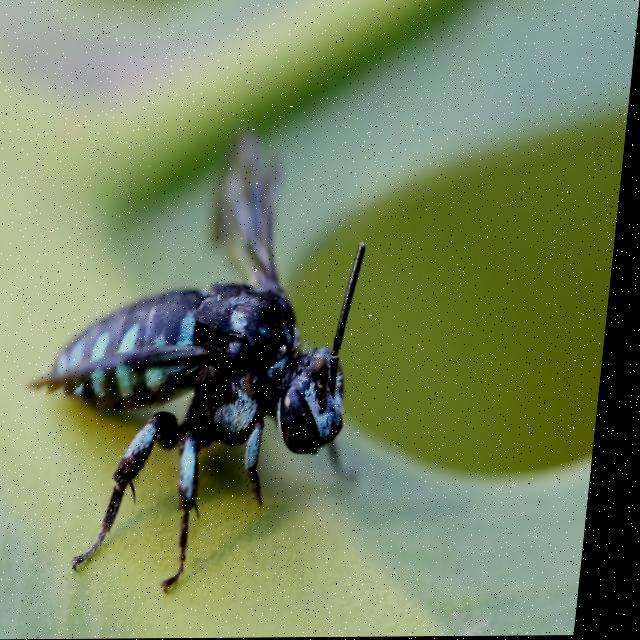Thyreus: (19, 121, 401, 606)
